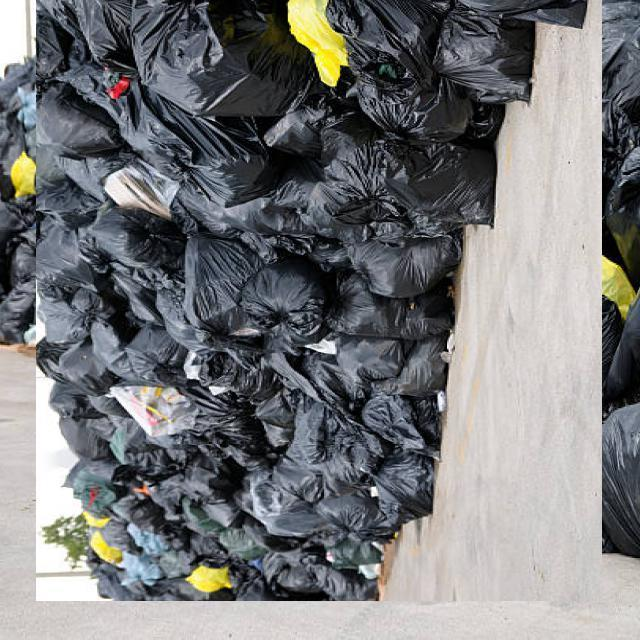Trashbag: (134, 5, 311, 111), (30, 68, 167, 165), (372, 126, 487, 238), (184, 177, 376, 242), (357, 66, 502, 139), (154, 99, 256, 196), (335, 0, 450, 74), (436, 24, 534, 108), (361, 209, 450, 294), (269, 351, 374, 422), (42, 3, 144, 74), (338, 282, 456, 340), (303, 410, 382, 493), (179, 334, 275, 398), (182, 236, 250, 326), (92, 324, 184, 382), (243, 269, 314, 342), (90, 210, 174, 267), (250, 459, 328, 518), (44, 283, 112, 349), (36, 222, 101, 288), (204, 409, 286, 461), (392, 333, 446, 408), (185, 448, 242, 504), (376, 455, 431, 513), (323, 130, 382, 184), (322, 489, 382, 533), (64, 412, 104, 461), (46, 384, 84, 425), (92, 388, 134, 421)
